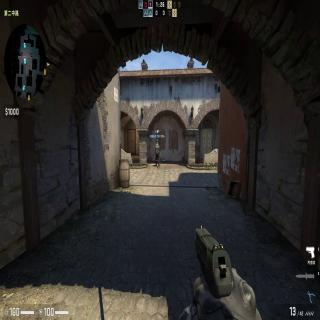CT-Body: (155, 142, 160, 168)
